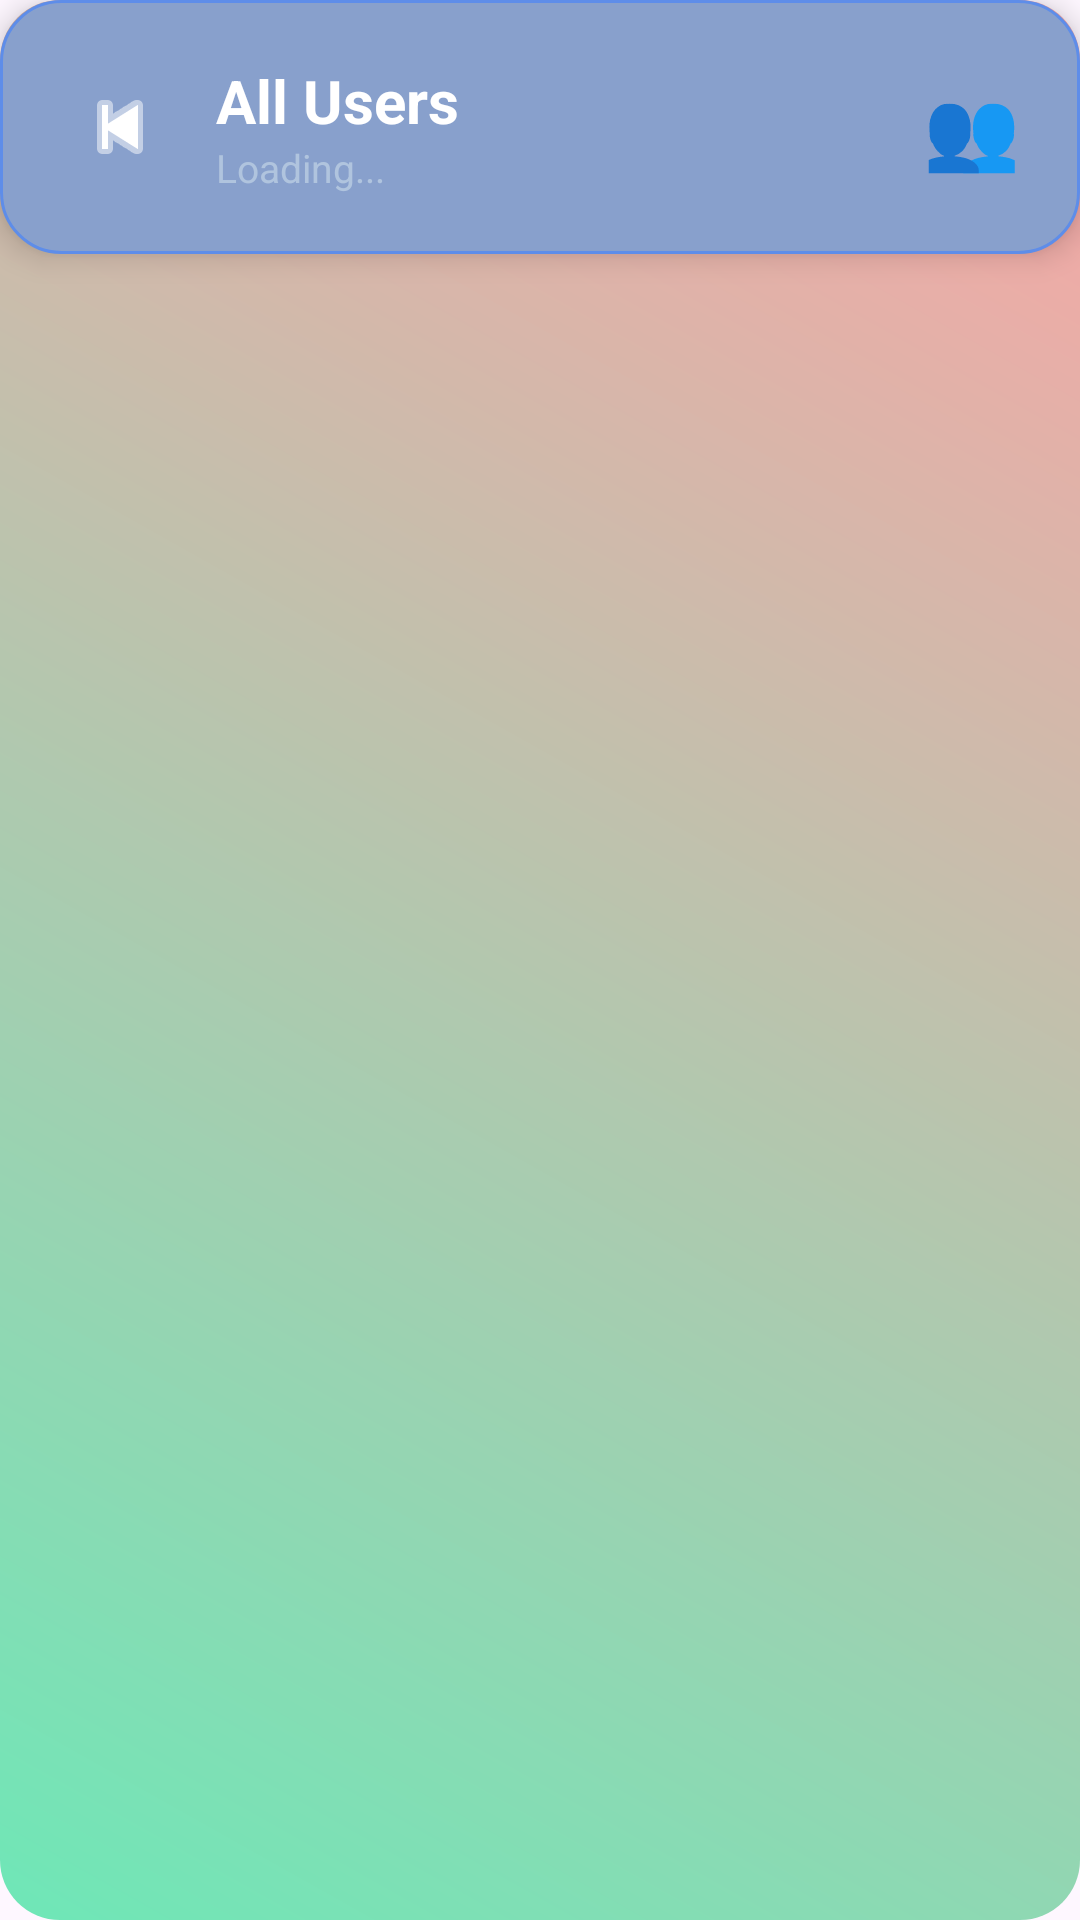

Icon click points for this 1080w x 1920h phone screenshot, format (x=x, y=y):
previous: (x=120, y=127)
